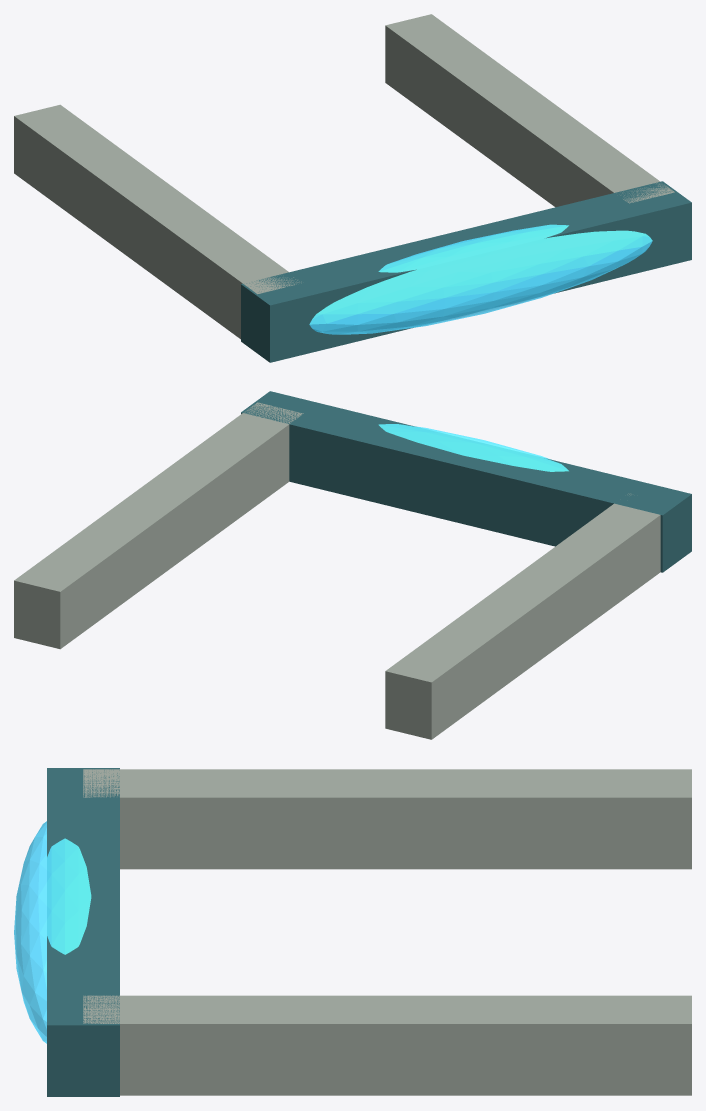
Rendered from 03_Leviathan_Gate.glb.
3 renders of one model, top to bottom at view 1: azimuth 30°, elevation 25°; view 2: azimuth 150°, elevation 25°; view 3: azimuth 270°, elevation 25°, orthographic. The views are drawn at different scales.
Visible parts, largest first — view 1: 03_Leviathan_Gate_00, 03_Leviathan_Gate_01, 03_Leviathan_Gate_03, 03_Leviathan_Gate_02; view 2: 03_Leviathan_Gate_02, 03_Leviathan_Gate_01, 03_Leviathan_Gate_00, 03_Leviathan_Gate_03; view 3: 03_Leviathan_Gate_01, 03_Leviathan_Gate_00, 03_Leviathan_Gate_02, 03_Leviathan_Gate_03.
Part boxes in pixels (x1,y1,x2,y2): 03_Leviathan_Gate_00: (14, 104, 301, 339); 03_Leviathan_Gate_01: (385, 14, 674, 207); 03_Leviathan_Gate_03: (309, 224, 652, 334); 03_Leviathan_Gate_02: (241, 181, 691, 362); 03_Leviathan_Gate_02: (241, 391, 691, 572); 03_Leviathan_Gate_01: (14, 402, 303, 649); 03_Leviathan_Gate_00: (385, 493, 660, 739); 03_Leviathan_Gate_03: (378, 424, 568, 471); 03_Leviathan_Gate_01: (83, 995, 691, 1095); 03_Leviathan_Gate_00: (83, 769, 691, 869); 03_Leviathan_Gate_02: (47, 768, 119, 1096); 03_Leviathan_Gate_03: (14, 821, 91, 1043).
Bounding box in the file's own units: 5 × 0.76 × 5.57.
